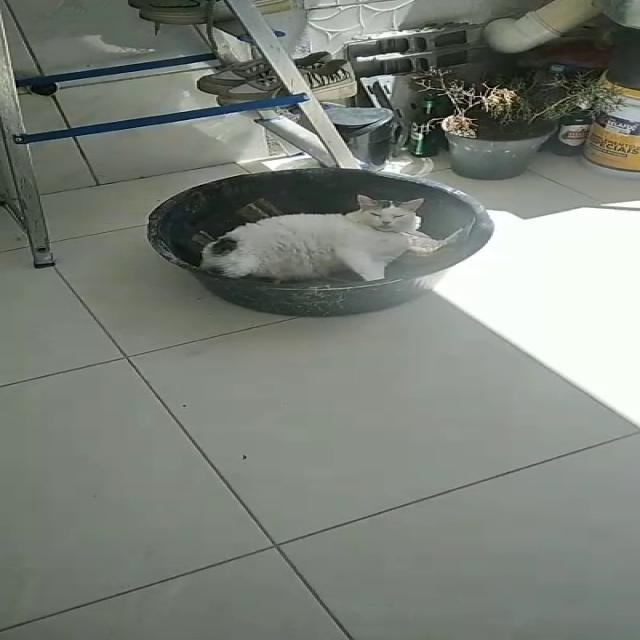Simba: (227, 200, 419, 280)
